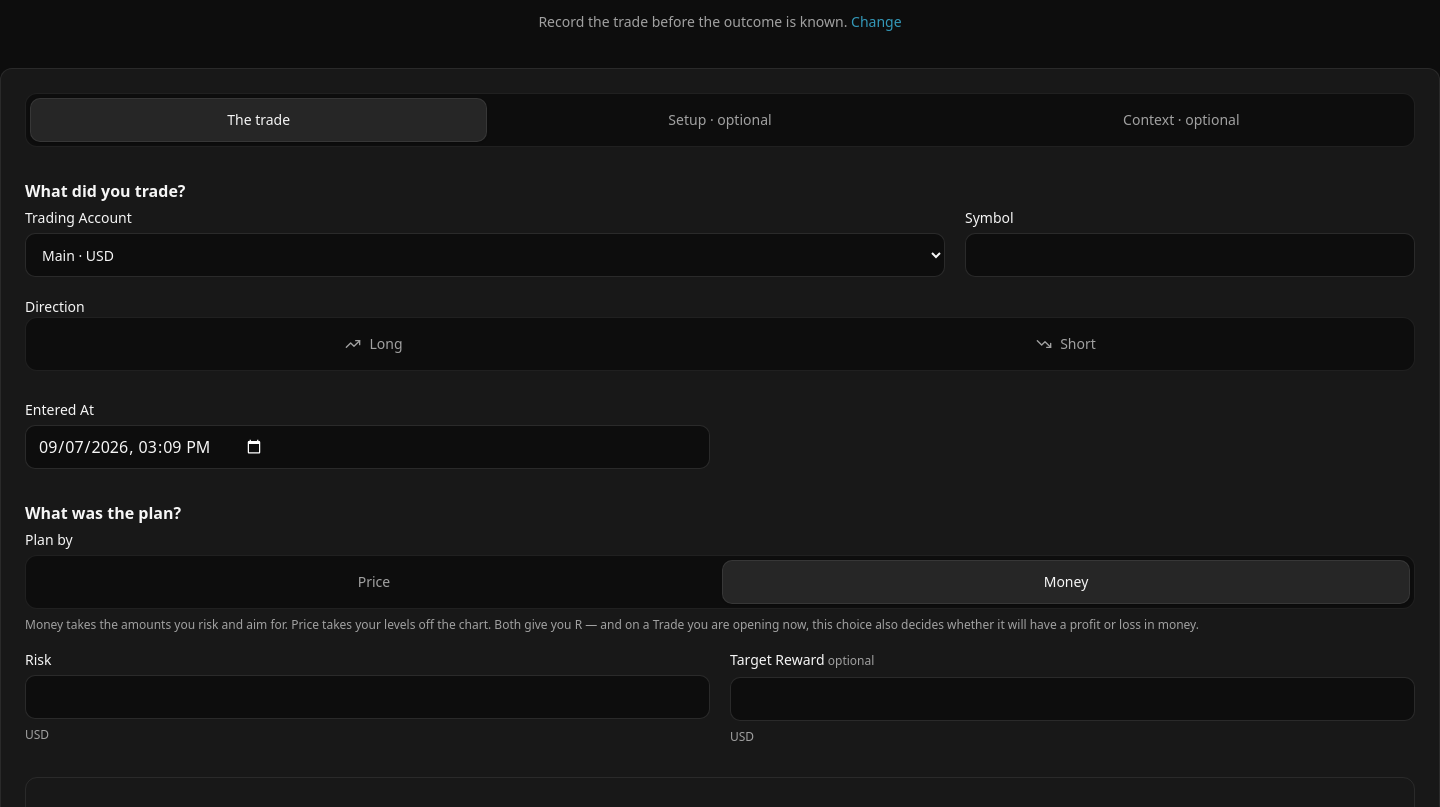
Test: TradeCreateGate › keeps New Trade available with no Strategy because classification is optional
This screenshot has width=1440, height=807.
expect the dropdown labelled "Trading Account" is shown: met, box [25,233,945,277]
Click the button "Setup · optional" at (720, 120), box [491,98,949,142]
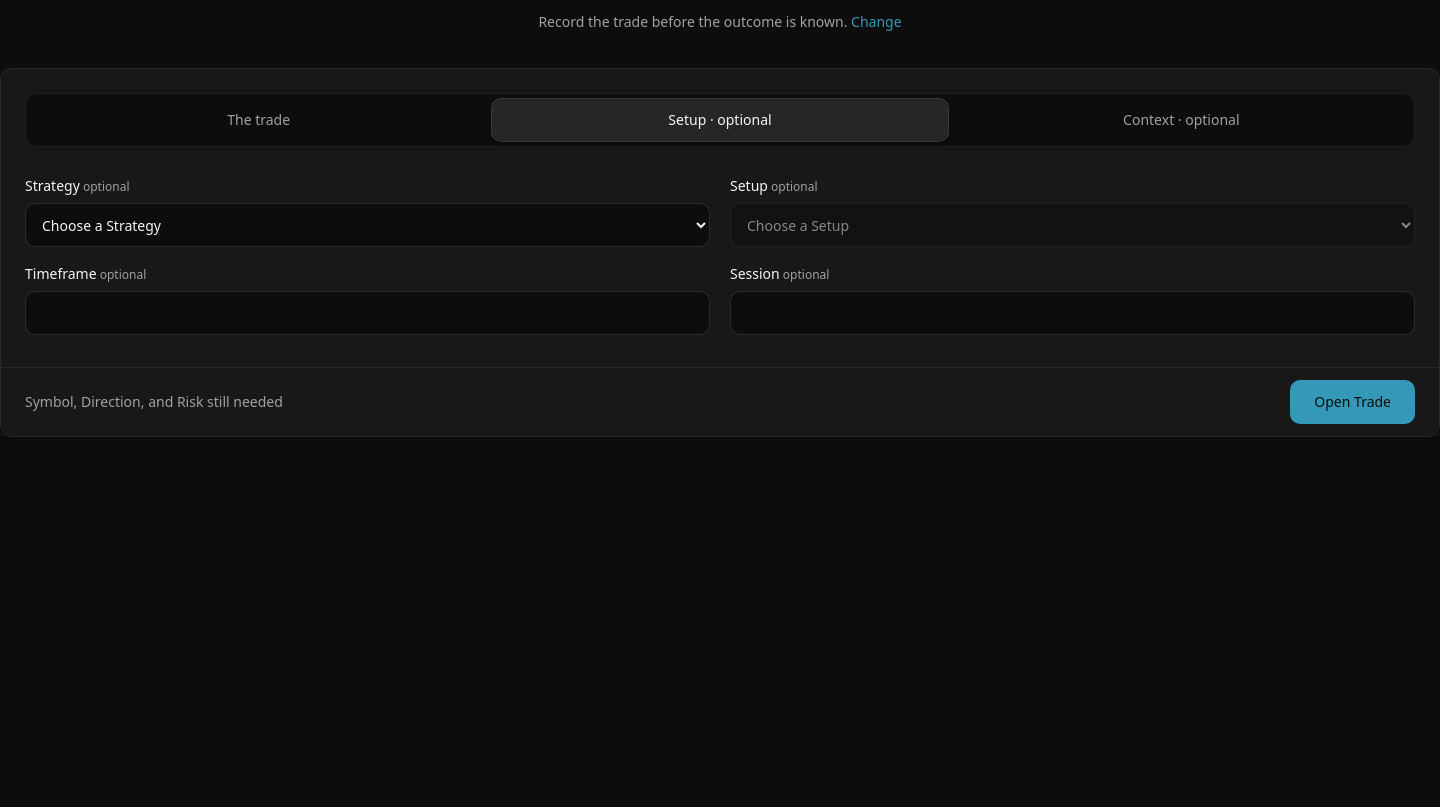
expect the button "Open Trade" is shown: met, box [1290,380,1415,424]
expect the dropdown labelled "Strategy optional" is shown: met, box [25,203,710,247]
